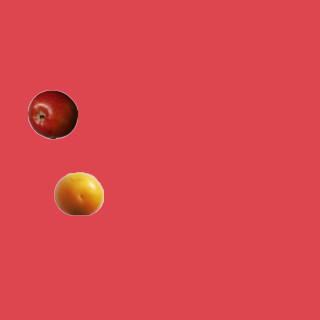Apple Braeburn: (27, 89, 77, 139)
Cherry Wax Yellow: (53, 168, 103, 218)
